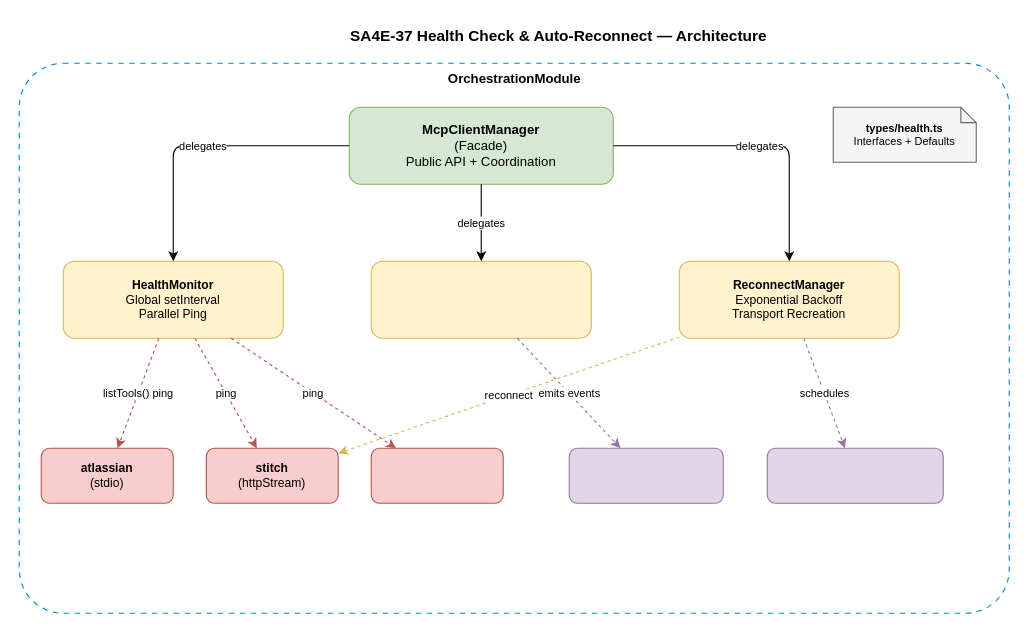
Image size: 1029x633. Some labels were removed from this diagram. Here are the shapes that lost their labels. From the top down, the box of each, then its label:
(370, 260, 591, 338): ConnectionStateTracker State Machine Event Emission
(370, 447, 503, 503): markitdown (stdio)
(568, 447, 723, 503): Event Consumers (callback array)
(766, 447, 943, 503): Node.js Timers setInterval / setTimeout
